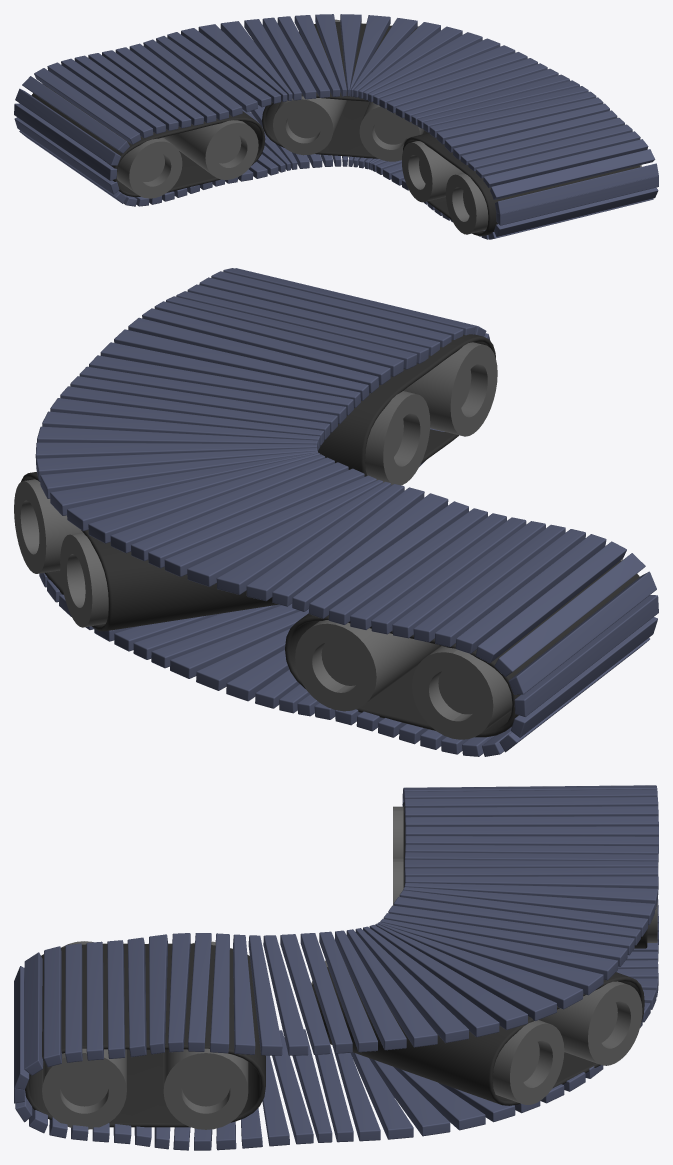
The model's file is Conveyer Belt Curved.fbx.
The picture shows the model from 3 angles, top to bottom: view 1: azimuth 30°, elevation 25°; view 2: azimuth 150°, elevation 25°; view 3: azimuth 270°, elevation 25°; orthographic projection. The views are drawn at different scales.
Visible parts, largest first — view 1: Curve Threads, Curve Barrels, Curve Treadline; view 2: Curve Threads, Curve Barrels, Curve Treadline; view 3: Curve Threads, Curve Barrels, Curve Treadline.
Boxes of the visible parts, x1,y1,x2,y2 form: Curve Threads: (14, 14, 658, 239); Curve Barrels: (42, 19, 641, 234); Curve Treadline: (31, 22, 639, 235); Curve Threads: (35, 268, 658, 756); Curve Barrels: (14, 342, 622, 739); Curve Treadline: (21, 334, 639, 737); Curve Threads: (14, 785, 658, 1150); Curve Barrels: (42, 806, 657, 1129); Curve Treadline: (25, 802, 647, 1127).
Size of the model in its own units: 521 by 97.84 by 509.
